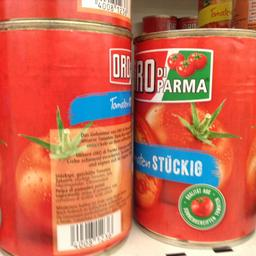tomato_sauce: (0, 18, 134, 254), (132, 26, 254, 248)
